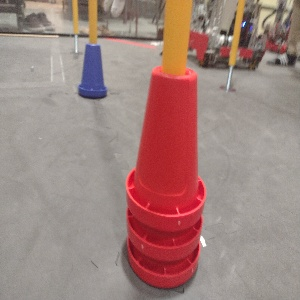Blue_1: (75, 40, 109, 99)
Red_3: (123, 63, 206, 289)
